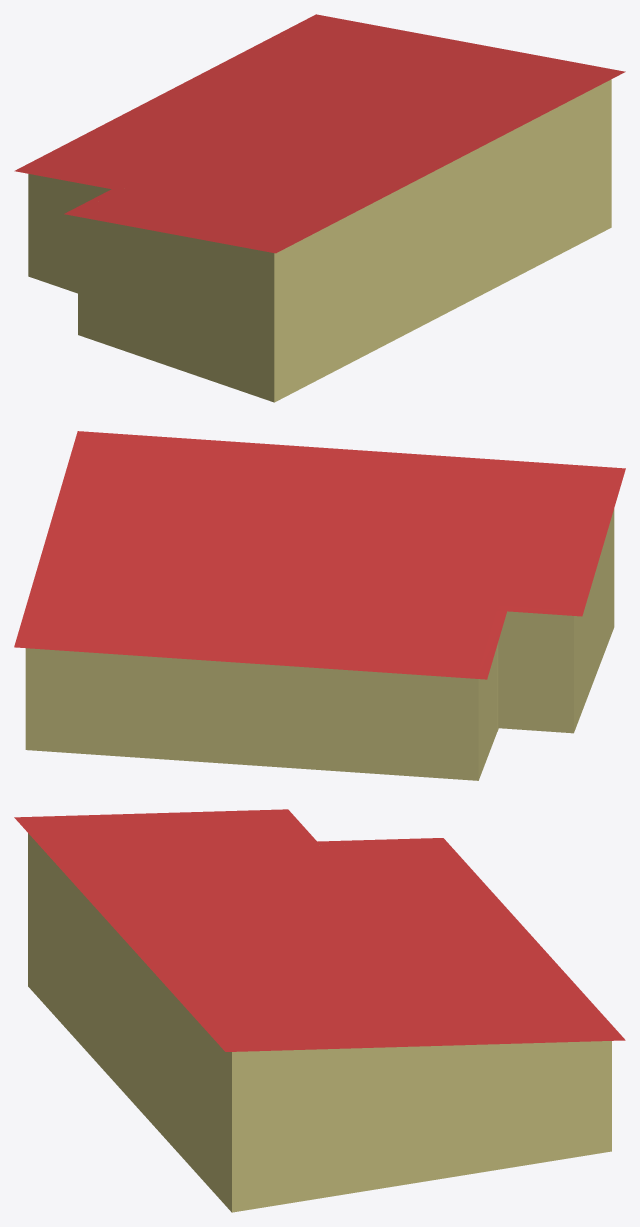
3 views of the same model, one above another, from view 1: azimuth 30°, elevation 25°; view 2: azimuth 150°, elevation 25°; view 3: azimuth 270°, elevation 25° (orthographic). The views are drawn at different scales.
Bounding box in the file's own units: 30.1 × 27.91 × 8.38.
